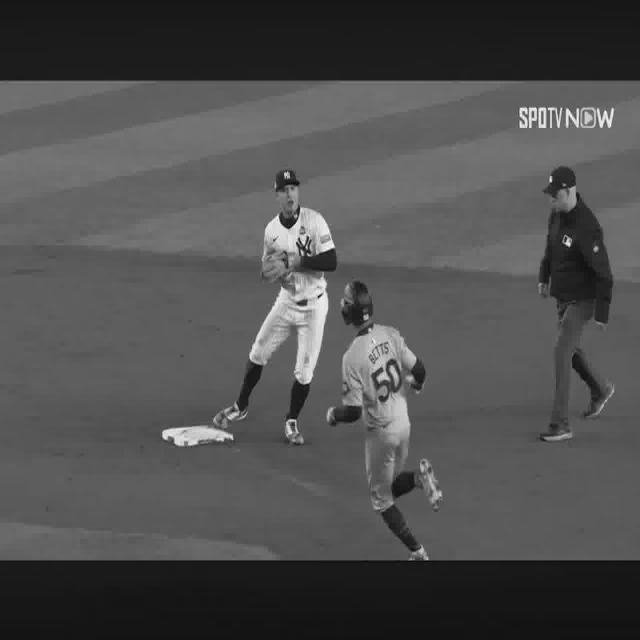base: (161, 425, 234, 447)
baseball_glove: (261, 250, 301, 282)
shoe: (420, 458, 442, 512), (584, 382, 615, 417), (212, 402, 248, 430), (541, 418, 572, 442), (285, 418, 304, 445)
